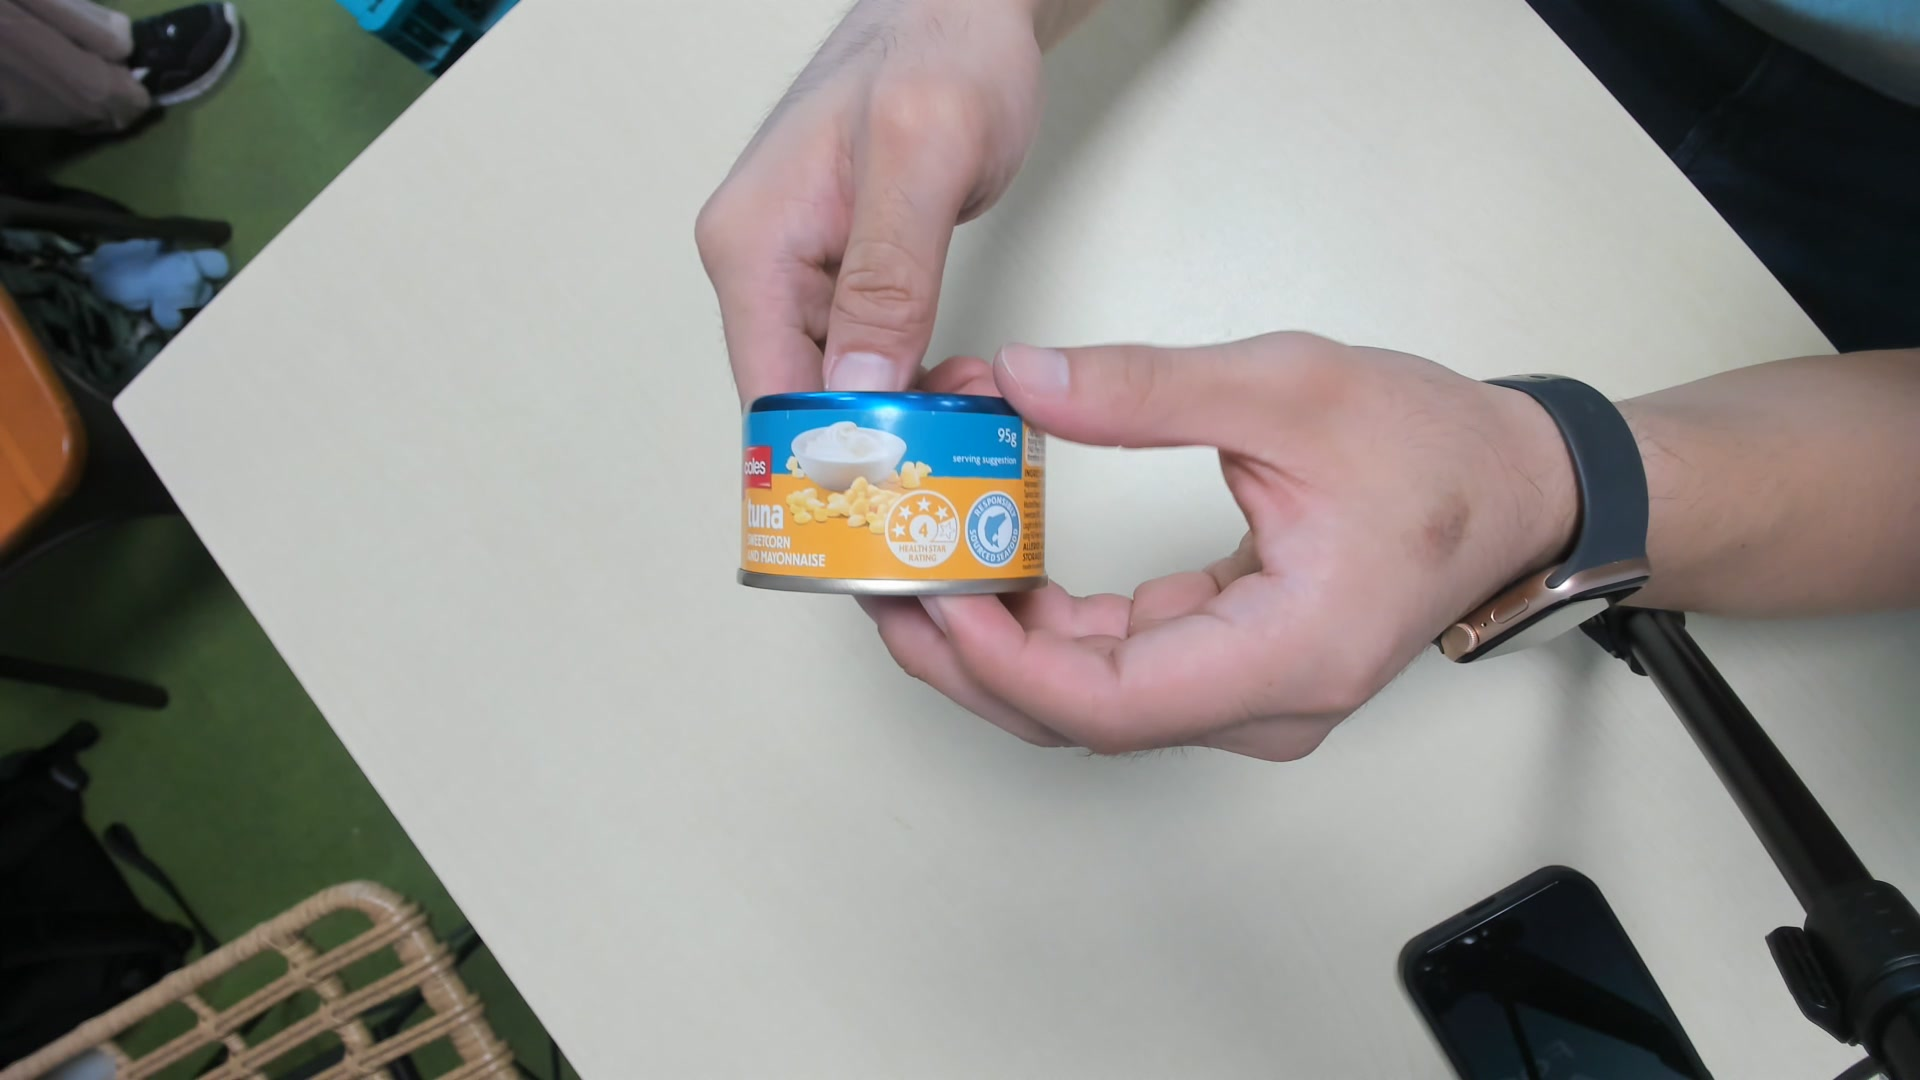OtherSauceDressing_0-99g_NonHalal_NonHealthy: (719, 397, 1048, 605)
